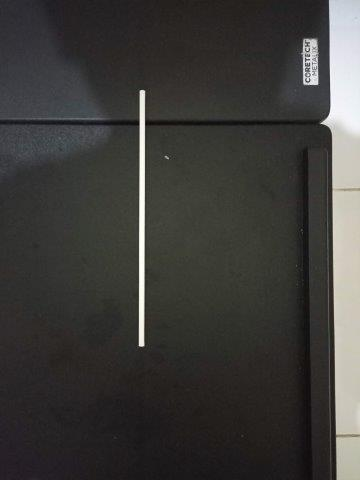sedotan: (138, 90, 145, 348)
